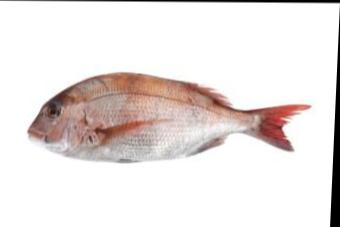fish: (28, 72, 312, 164)
